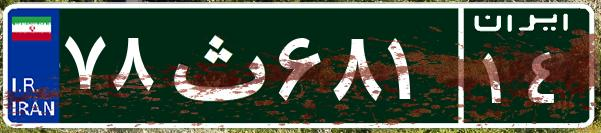1: (385, 28, 445, 110), (475, 38, 525, 113)
4: (525, 38, 570, 115)
6: (273, 28, 330, 110)
7: (57, 26, 110, 107)
8: (330, 28, 385, 110), (110, 28, 158, 105)
ث: (158, 15, 273, 115)
